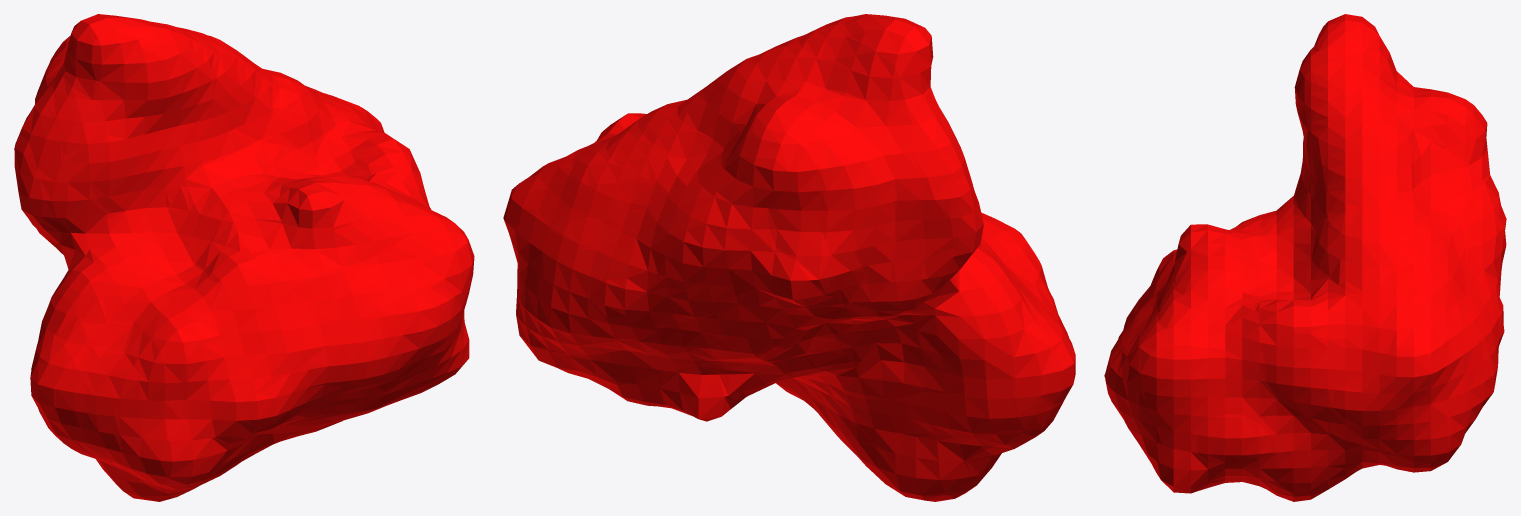
Rendered from yciF_coarse.dae.
The picture shows the model from 3 angles, left to right: view 1: azimuth 30°, elevation 25°; view 2: azimuth 150°, elevation 25°; view 3: azimuth 270°, elevation 25°; orthographic projection. The views are drawn at different scales.
Parts seen in each view (by area): view 1: yciF; view 2: yciF; view 3: yciF.
Part boxes in pixels (box(x1,y1,x2,y2)): yciF: box(14, 14, 474, 501); yciF: box(503, 14, 1075, 501); yciF: box(1104, 14, 1506, 501).
Bounding box in the file's own units: 60.24 × 61.76 × 51.14.
